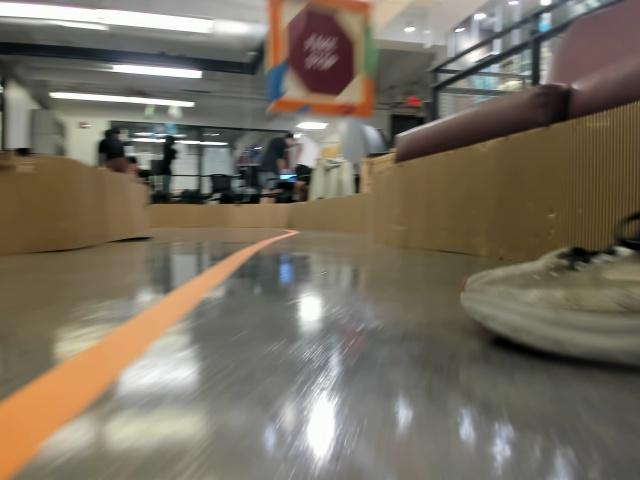Fake Stop: (286, 6, 356, 96)
